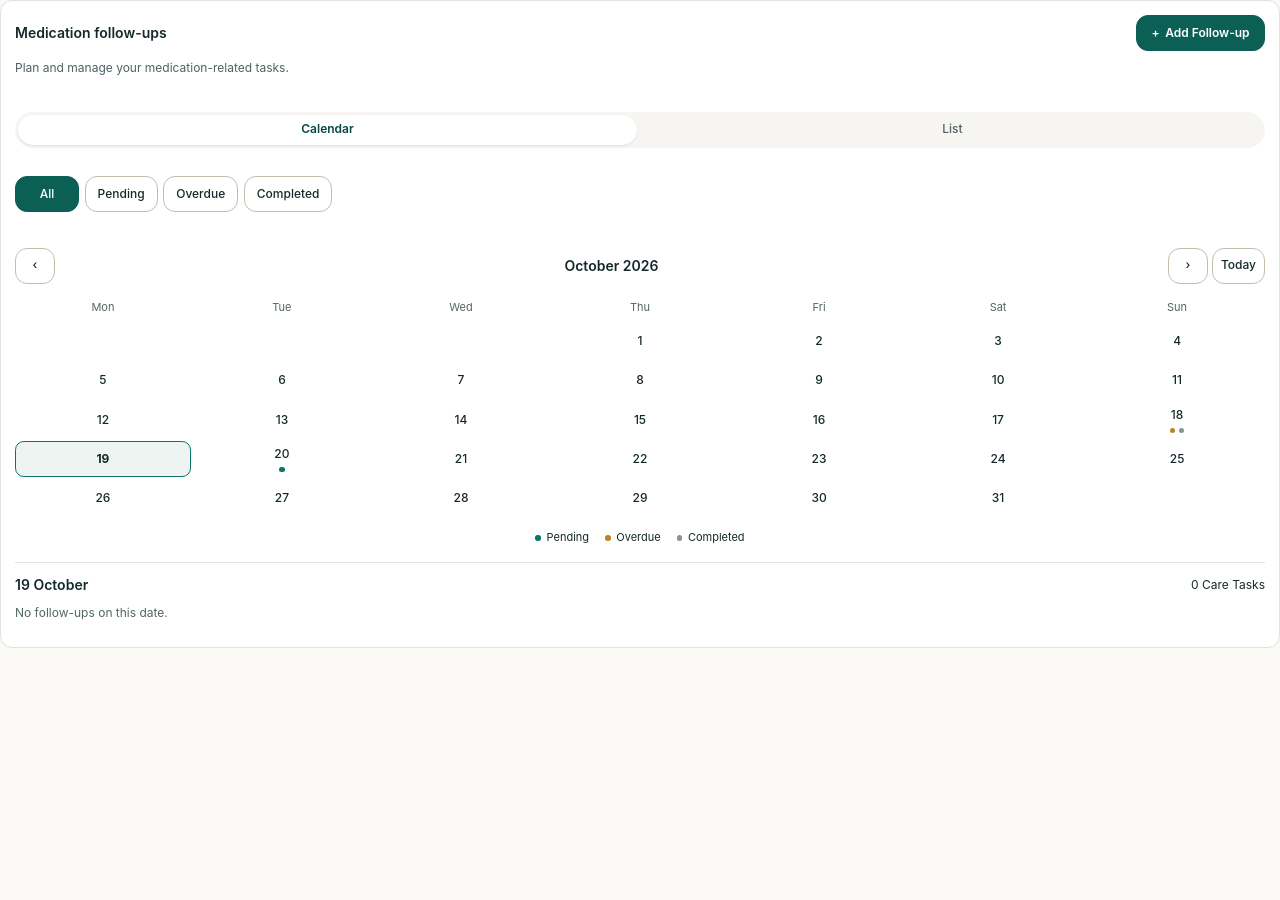
Test: filters lifecycle views and opens a readable detail instead of inline edit forms
The image size is (1280, 900).
Expected: the table named "October 2026" is shown, x1=15 y1=296 x2=1265 y2=516
Click the button "List": (952, 130) x1=640 y1=112 x2=1265 y2=148
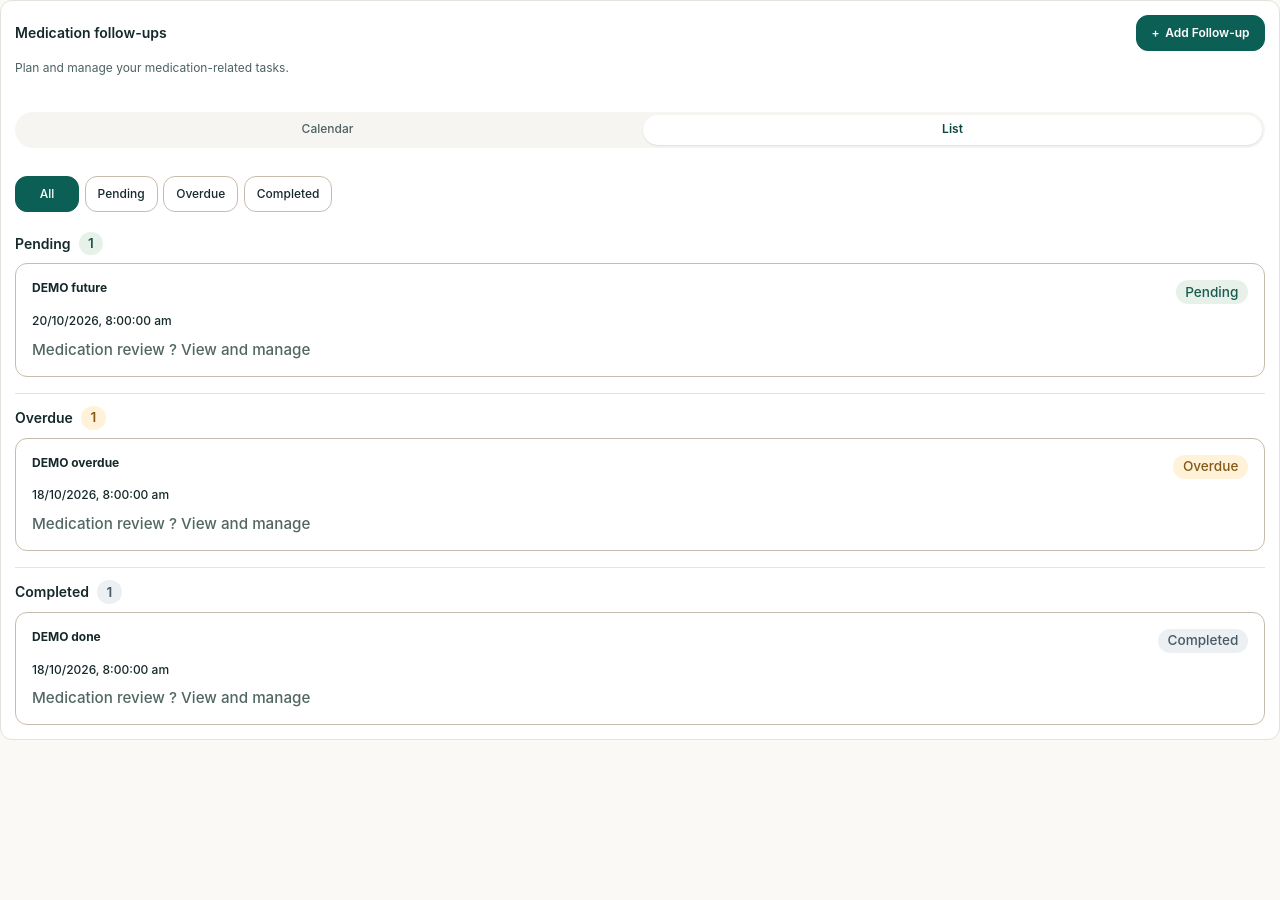
Now the button "DEMO future" is shown, box x1=15 y1=263 x2=1265 y2=377
Click the button "Overdue": (201, 194) x1=163 y1=176 x2=238 y2=212
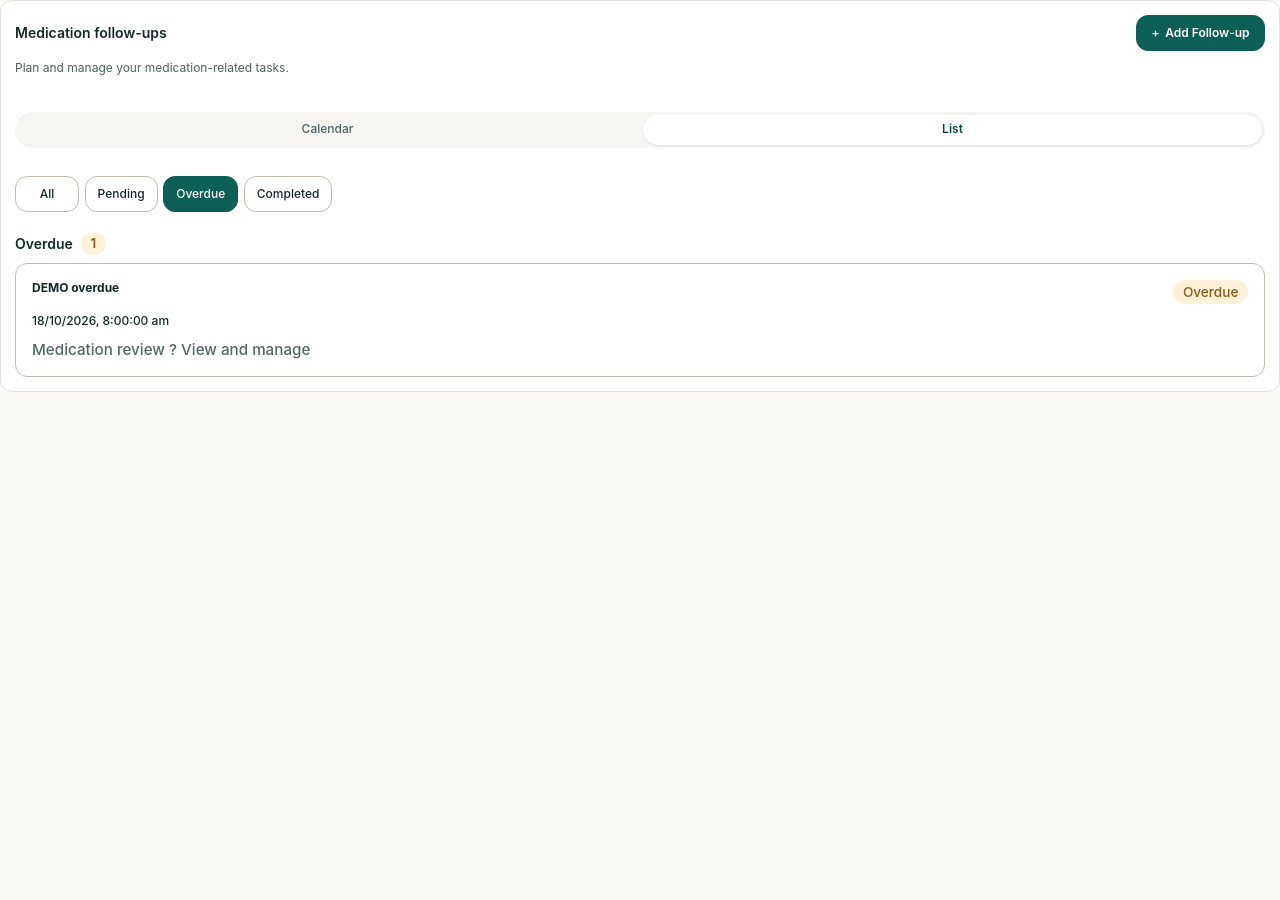
Click the button "DEMO overdue": (76, 288) x1=15 y1=263 x2=1265 y2=377
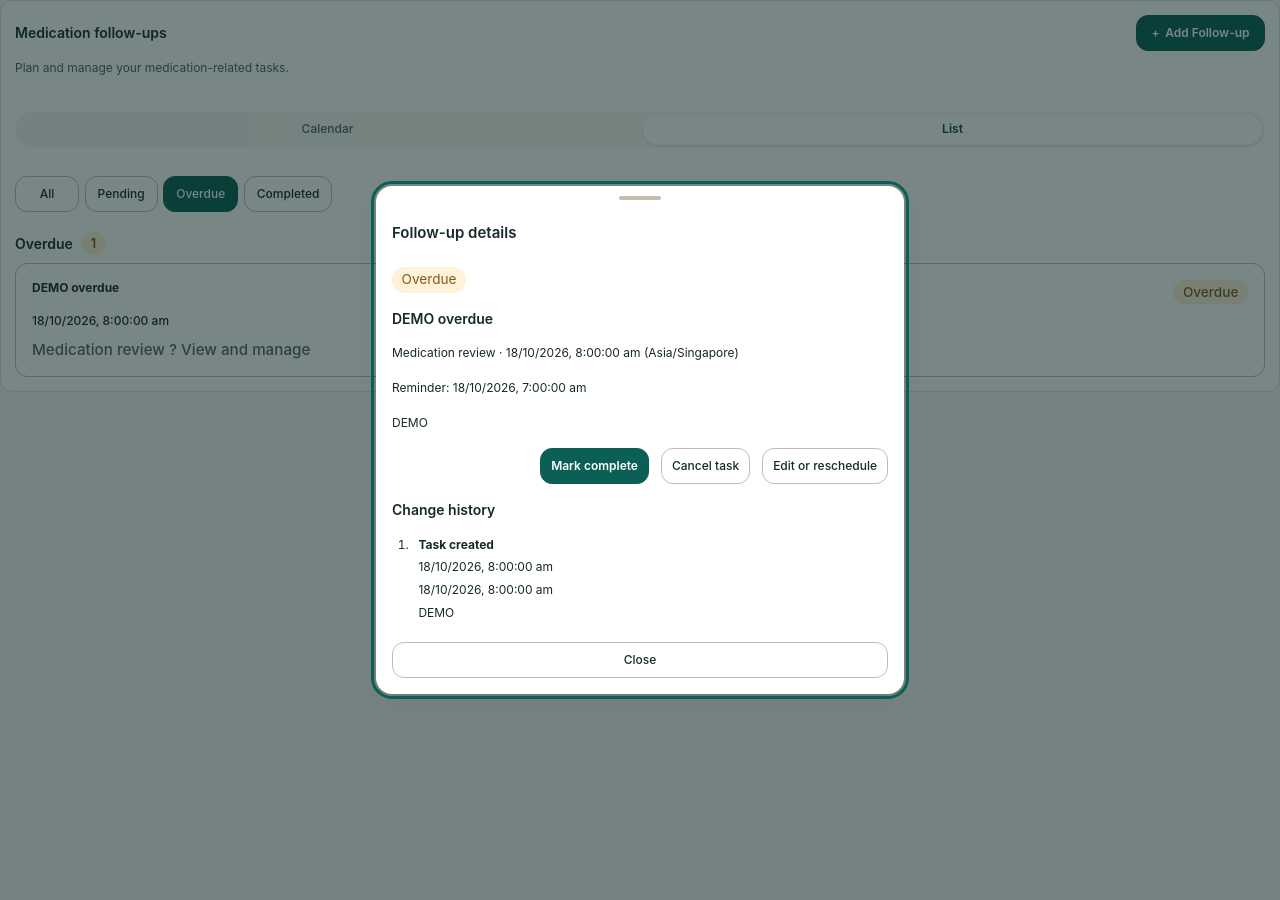
Now the text "Task created" is shown, box x1=418 y1=537 x2=494 y2=552
